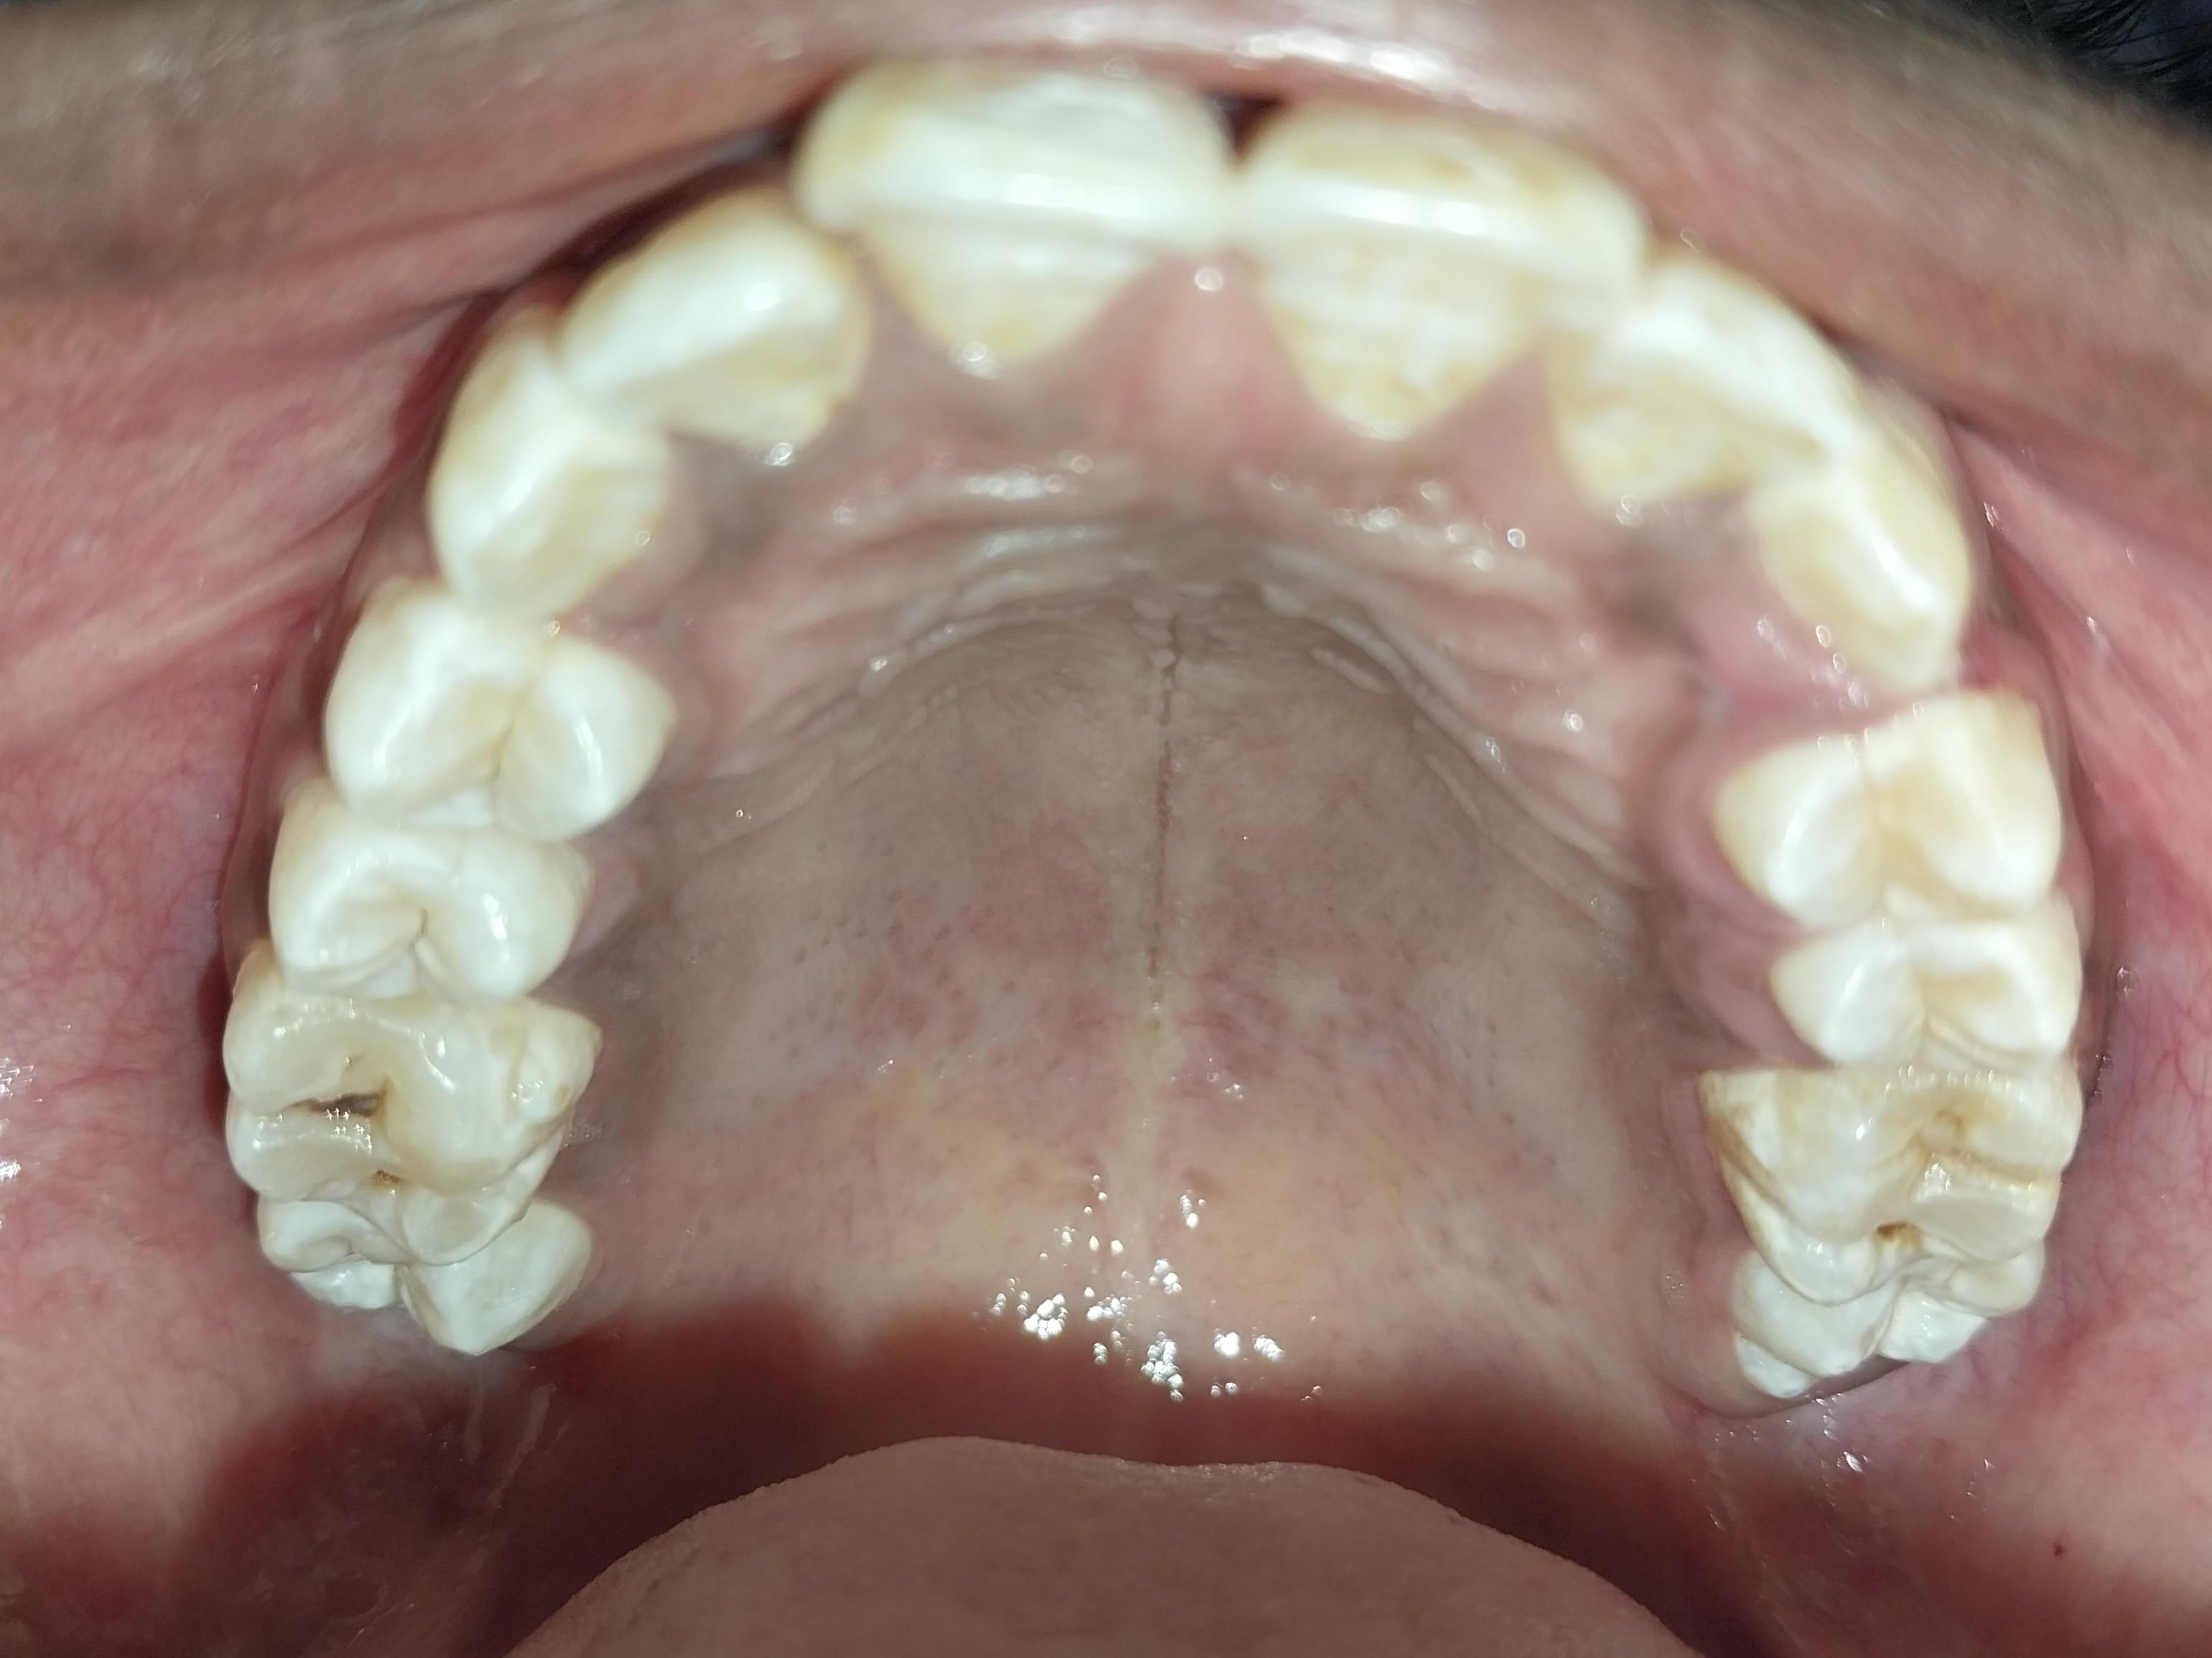D: (198, 961, 589, 1262)
